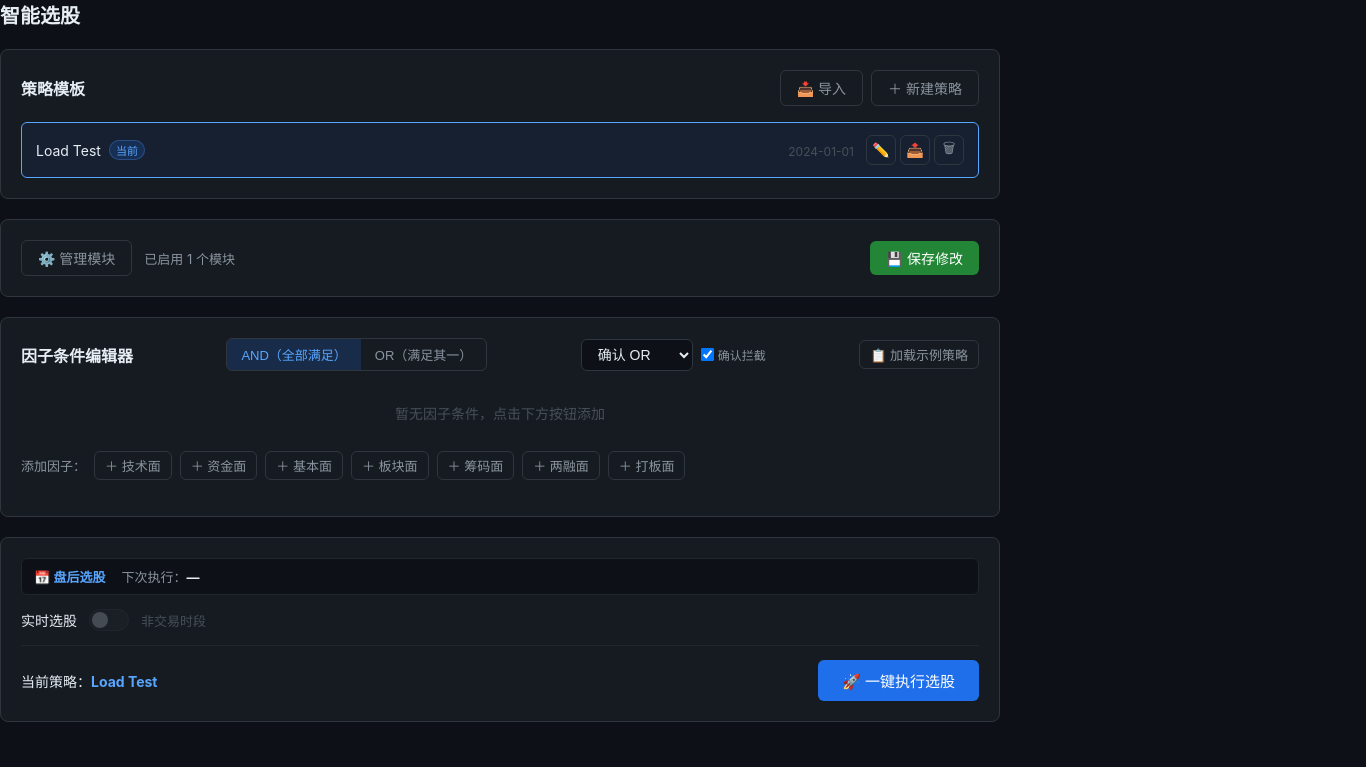
Scenario: ScreenerView - strategy example loader › loads strategy example config into editor when example is clicked
The image size is (1366, 767).
Click the button with class "btn-outline" showing "📋 加载示例策略" at (919, 354), box [859,340,979,369]
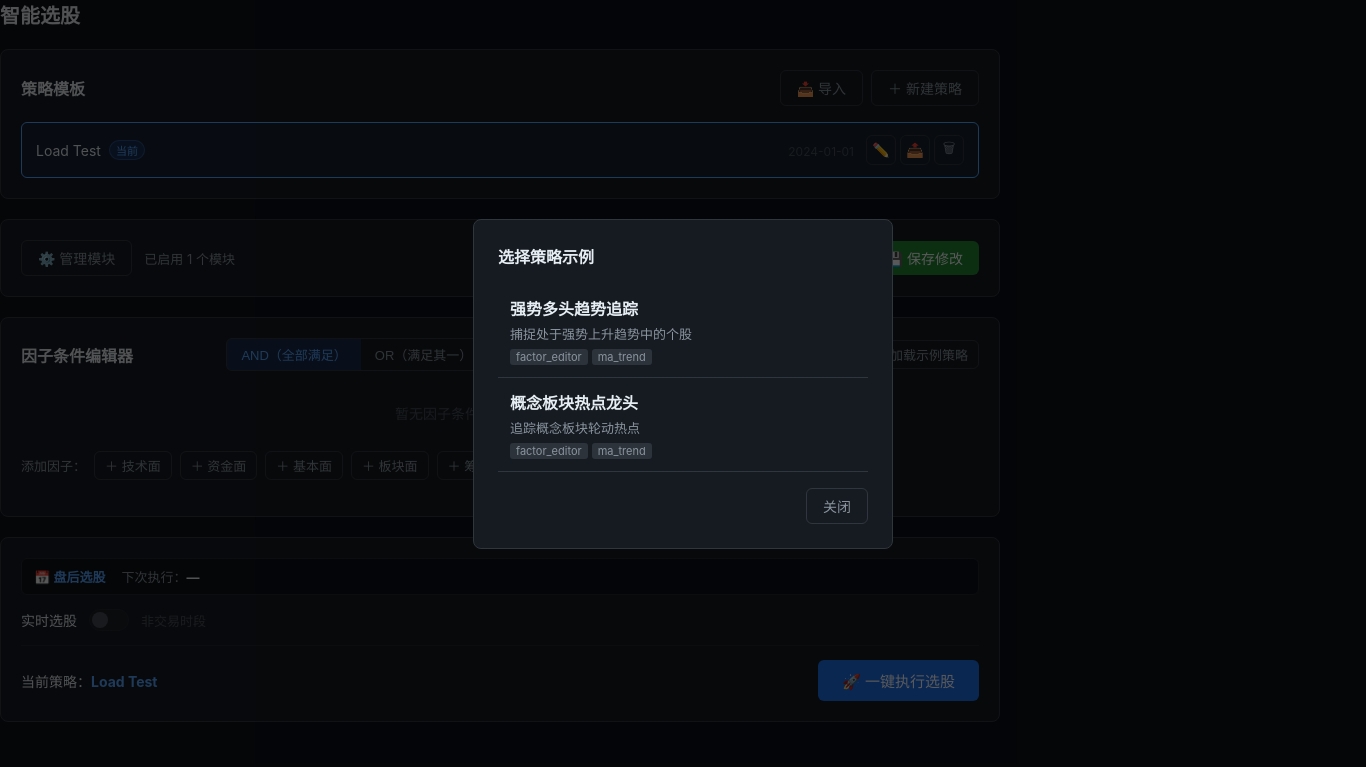
# Click the first example
Click the element with class "example-item" that starts with "强势多头趋势追踪" at (683, 331), box [498,284,868,378]
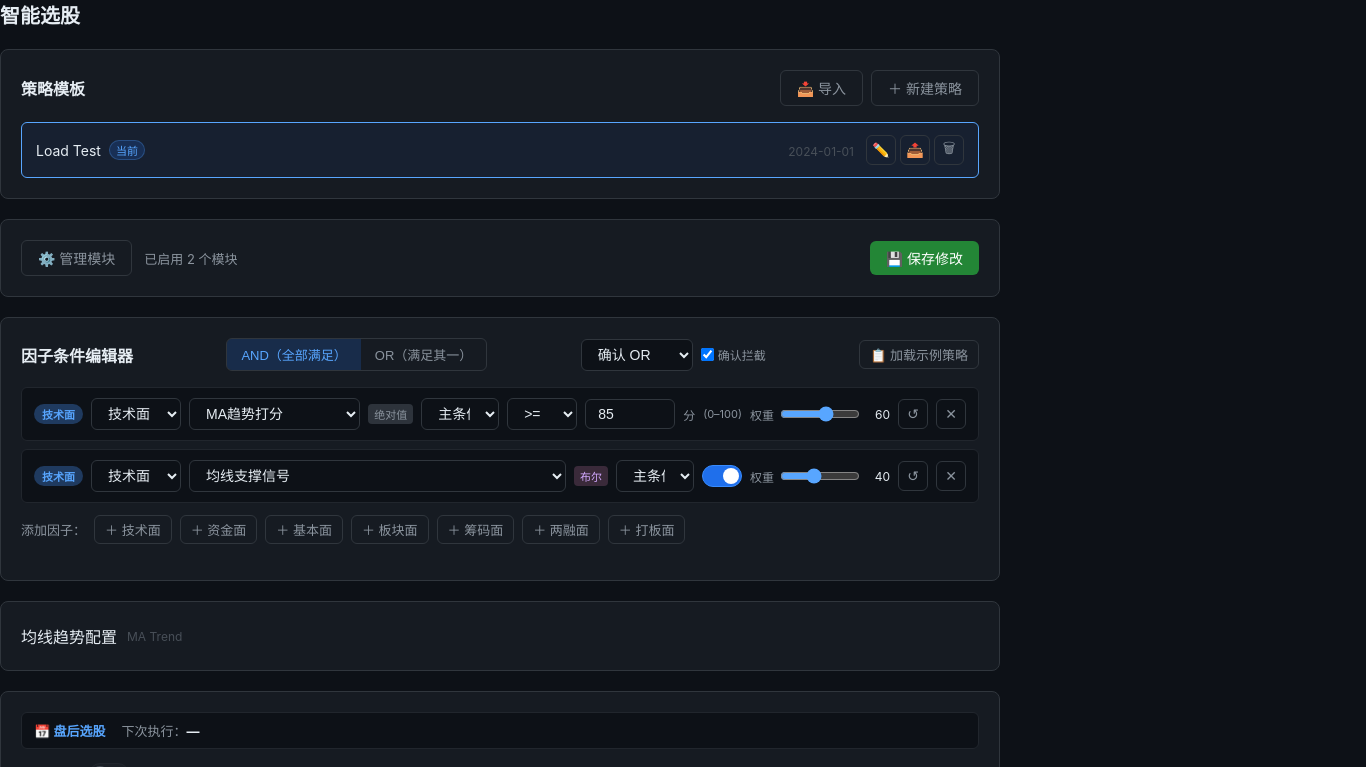
Result: the number of elements with class "factor-row" is 2 at [21,387,979,441]; [21,449,979,503]
